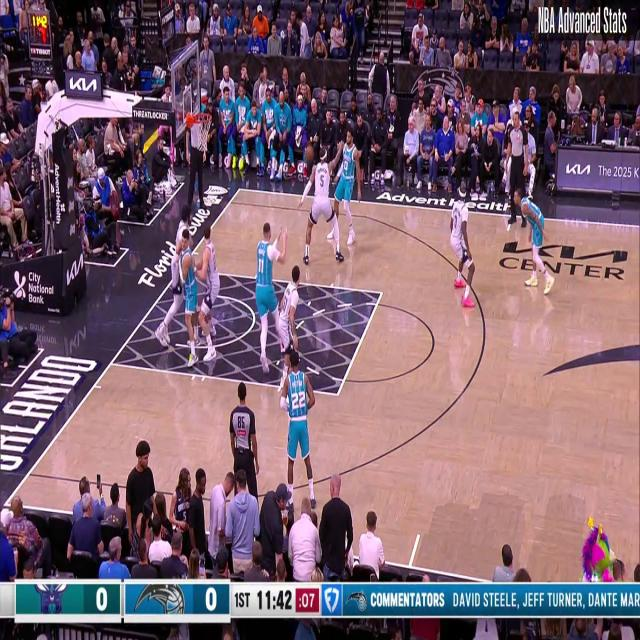ball: (305, 136, 315, 166), (639, 27, 640, 148)
judge: (226, 380, 260, 508), (504, 112, 530, 228)
player: (298, 141, 343, 269), (156, 206, 192, 353), (254, 224, 289, 375), (512, 183, 556, 297), (282, 353, 314, 493), (327, 132, 362, 244), (277, 266, 305, 405), (180, 229, 208, 368), (443, 189, 472, 310), (203, 219, 223, 360)
